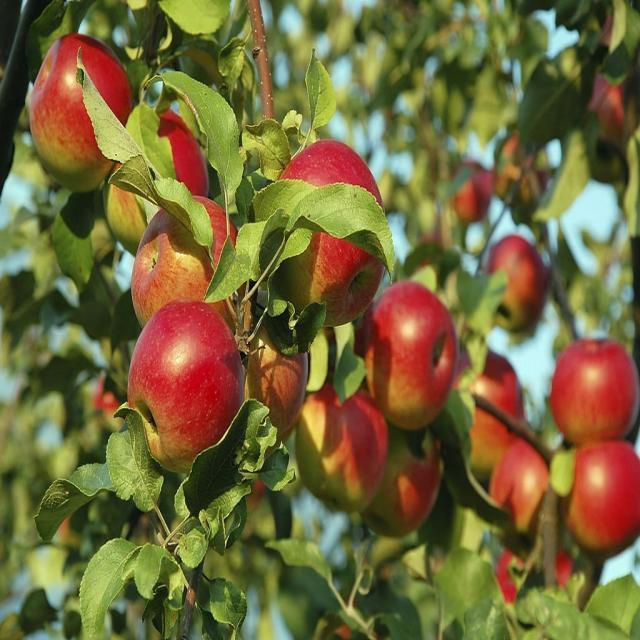Red Apple: (275, 145, 393, 308), (134, 300, 247, 463), (26, 32, 132, 186), (110, 105, 209, 250), (362, 276, 456, 424), (126, 200, 237, 323), (298, 377, 388, 498), (233, 299, 313, 430), (561, 445, 640, 570), (556, 334, 639, 443), (374, 420, 442, 549), (458, 349, 528, 473), (490, 236, 550, 330), (494, 438, 550, 533), (583, 74, 640, 154), (494, 542, 549, 602), (500, 133, 551, 193), (452, 161, 492, 217), (94, 377, 127, 421)
